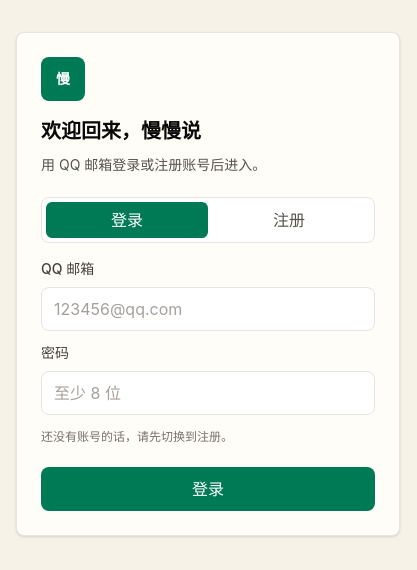
Test: ChatApp › blocks non-qq email registration in the auth form
Expected: the heading "欢迎回来，慢慢说" is shown, [41,119,201,143]
Click the button "注册" at (289, 220), box [208,202,370,238]
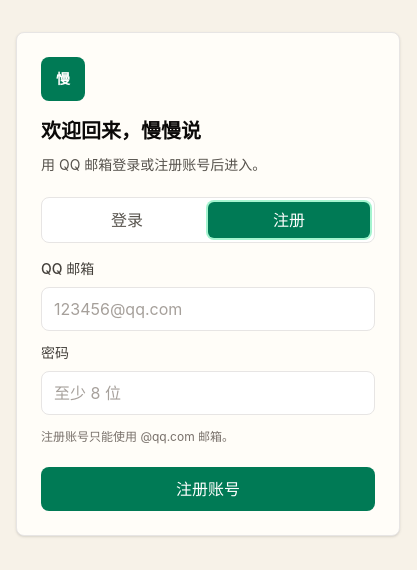
Type "user@gmail.com" into the field labelled "QQ 邮箱" at (208, 309), box [41,287,375,331]
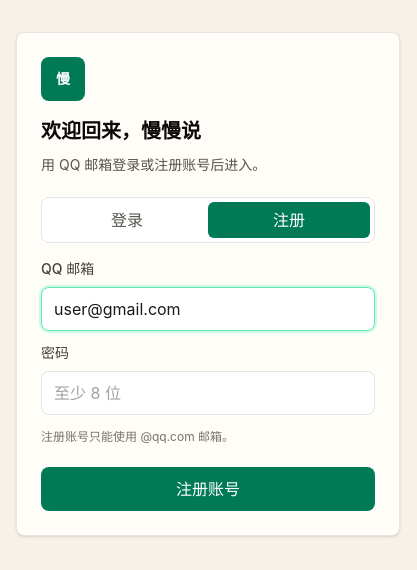
Type "password123" into the password field labelled "密码" at (208, 393), box [41,371,375,415]
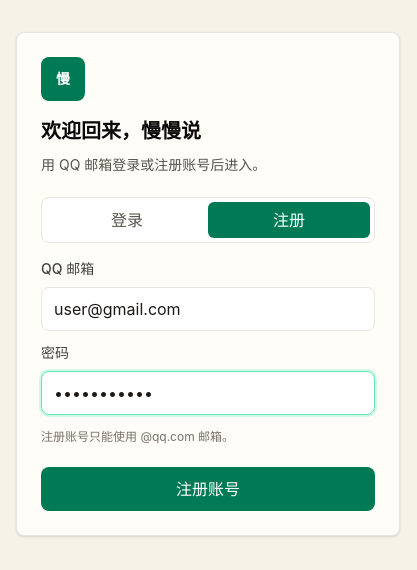
Click the button "注册账号" at (208, 489), box [41,467,375,511]
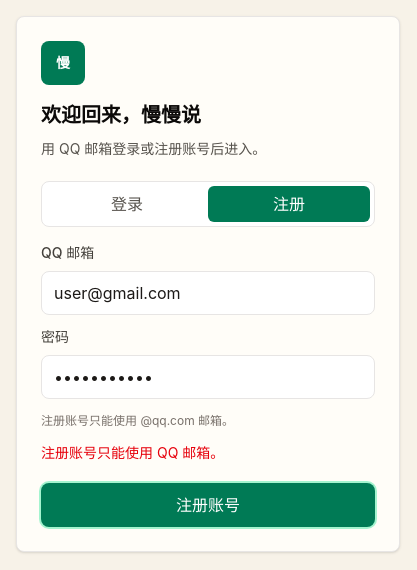
Result: the message reads "注册账号只能使用 QQ 邮箱。" at [41,444,224,461]
